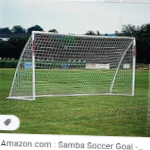goals: (4, 29, 136, 100)
